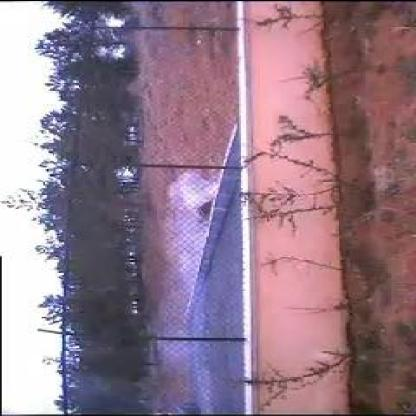-: (150, 171, 240, 372)
